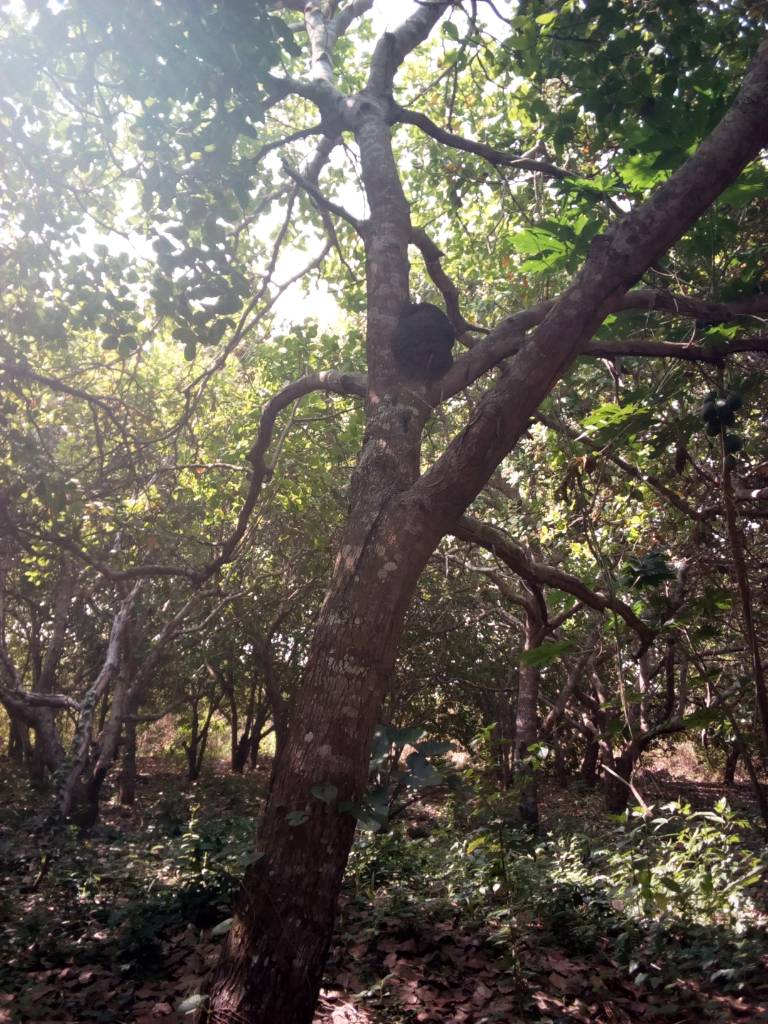Termites: (394, 300, 452, 380)
